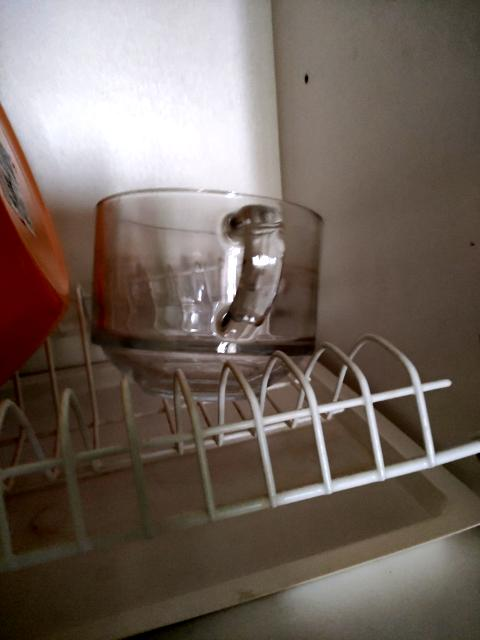Cup: (93, 190, 322, 399)
